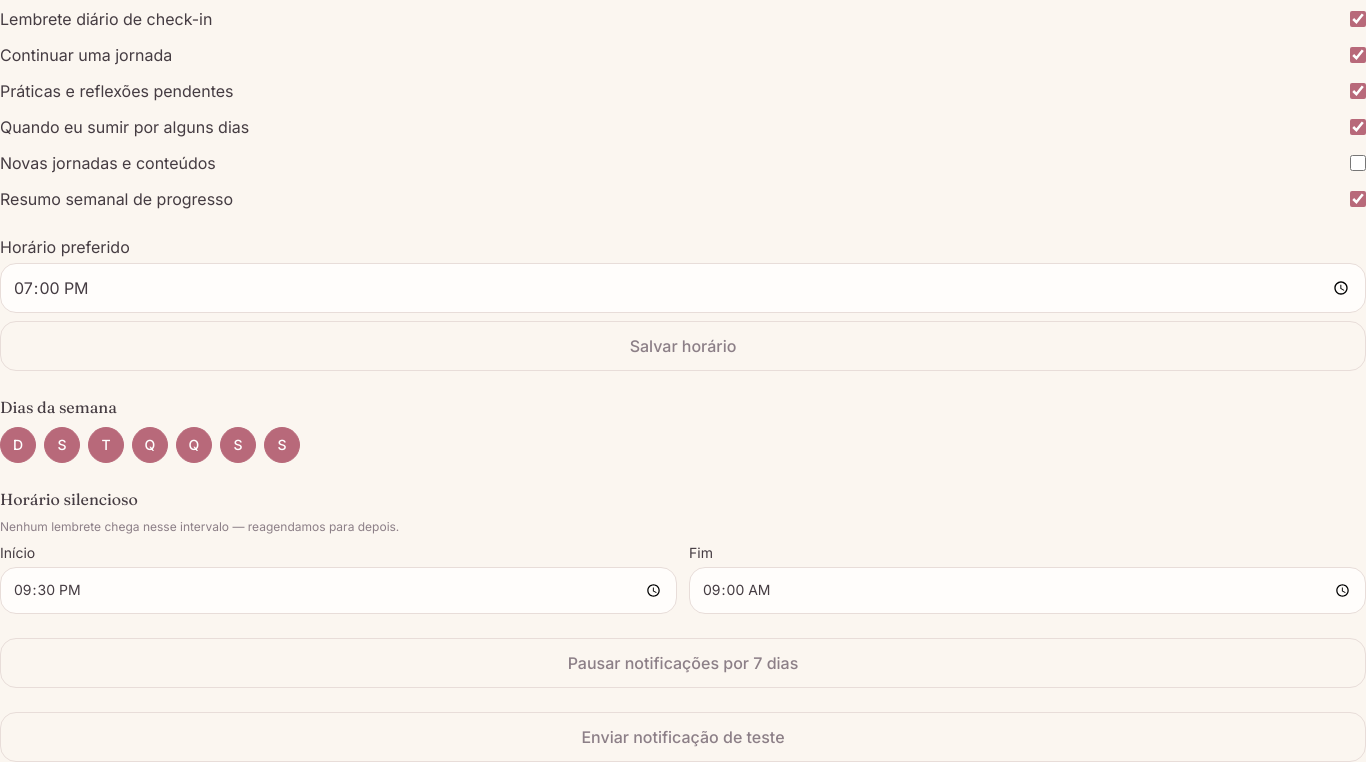
Scenario: NotificacoesForm › "enviar notificação de teste": mostra o erro da action em vez de um sucesso falso
The image size is (1366, 762).
(page scrolled)
Click the button "Enviar notificação de teste" at (683, 737), box [0, 712, 1365, 761]
(page scrolled)
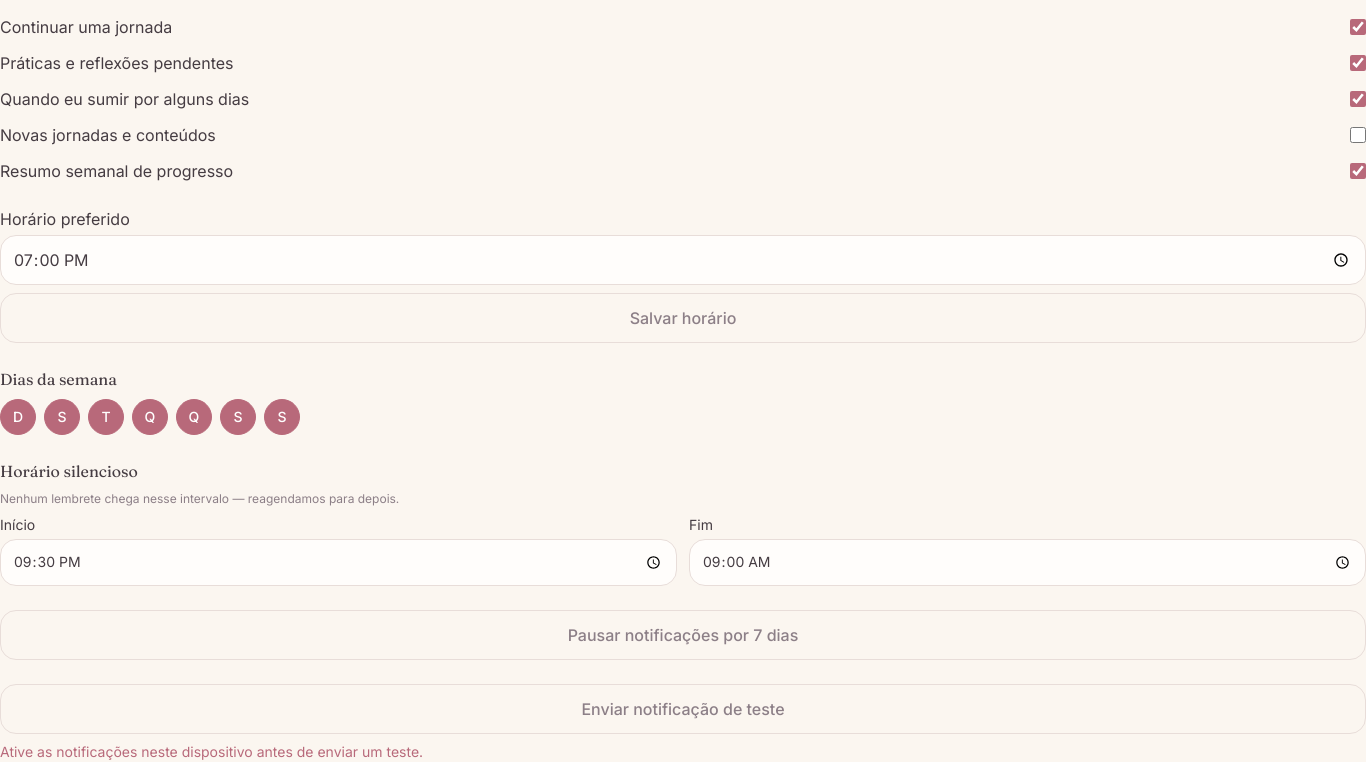
Now the text "Ative as notificações neste dispositivo antes de enviar um teste." is shown, box [0, 743, 423, 760]
